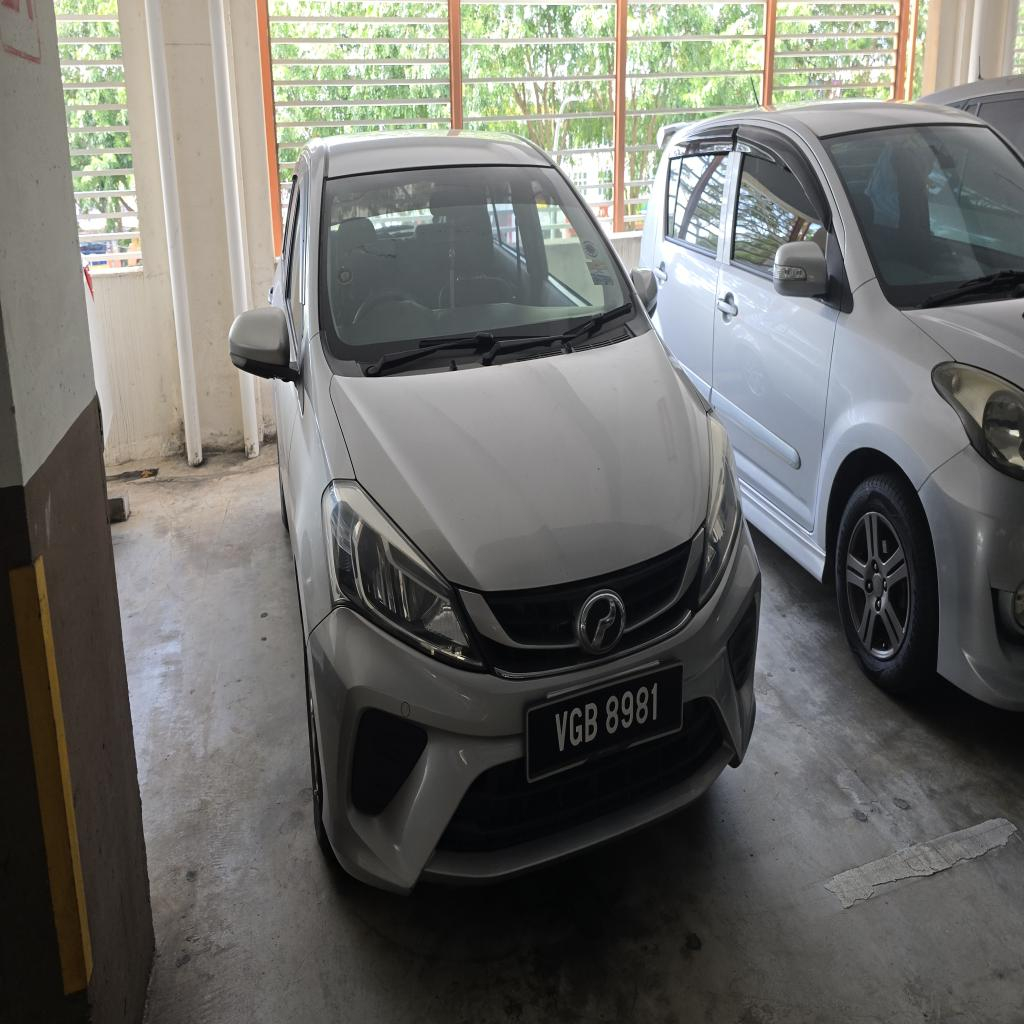car: (231, 133, 760, 891)
car plate: (526, 665, 682, 781)
